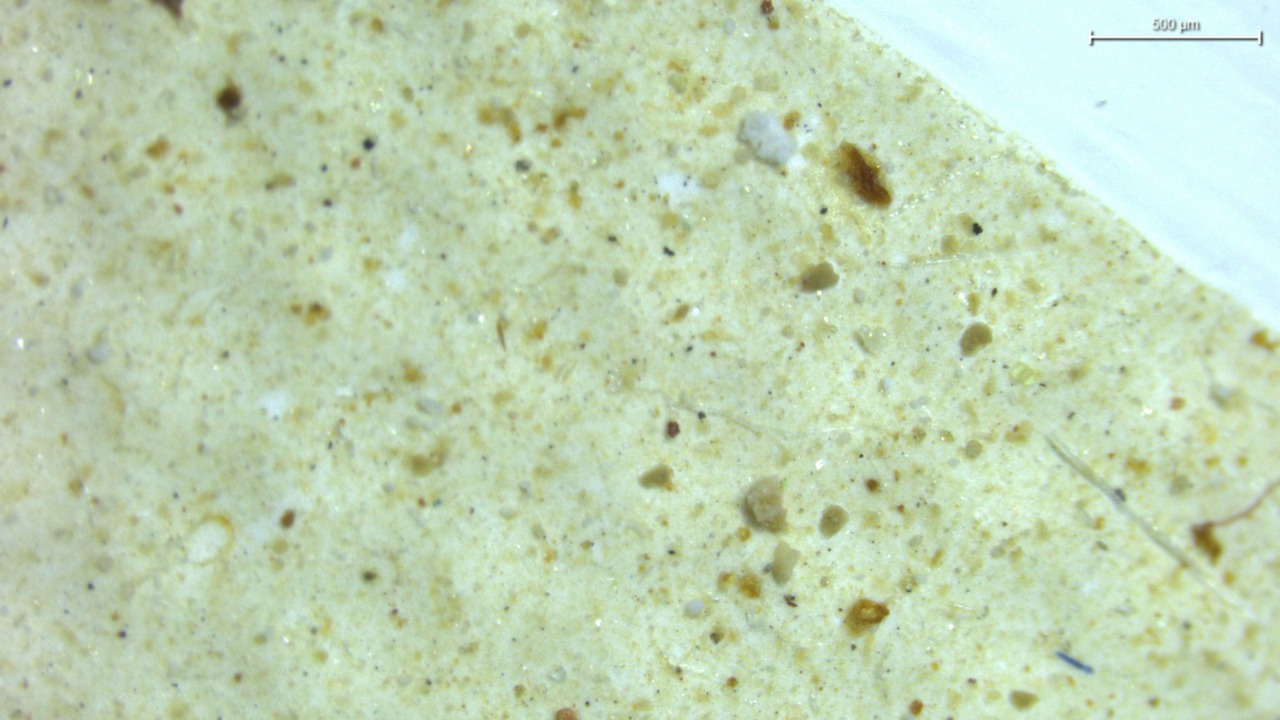microplastic_fragment: (737, 111, 796, 165), (741, 477, 786, 532)
